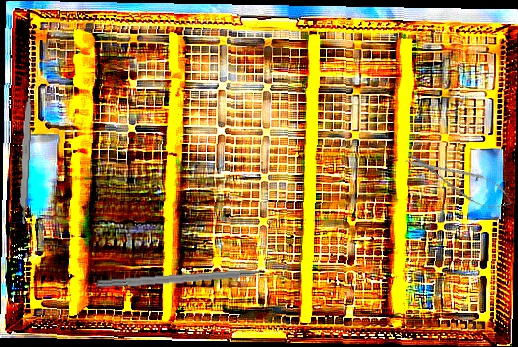Hook Surgical: (95, 266, 286, 291)
Micro Scissor: (401, 144, 517, 217)
Scalpel Handle: (17, 95, 33, 224)
